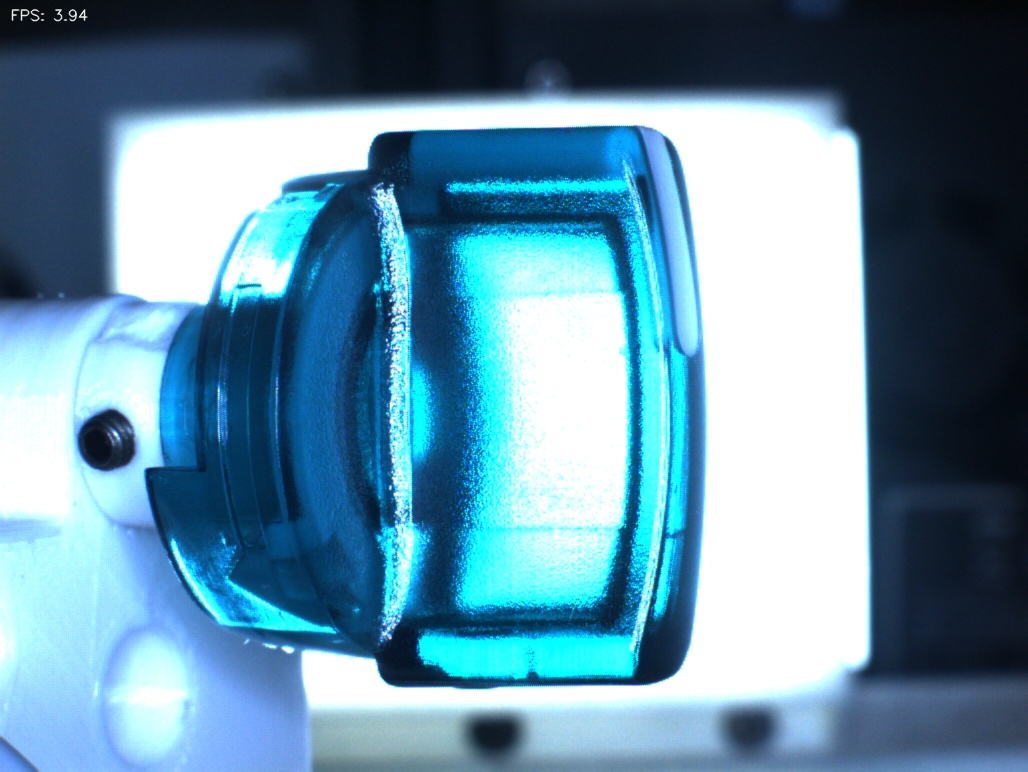Bulle: (501, 633, 576, 708)
